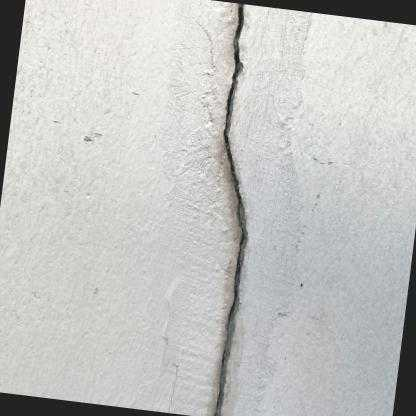crack: (210, 2, 248, 416)
